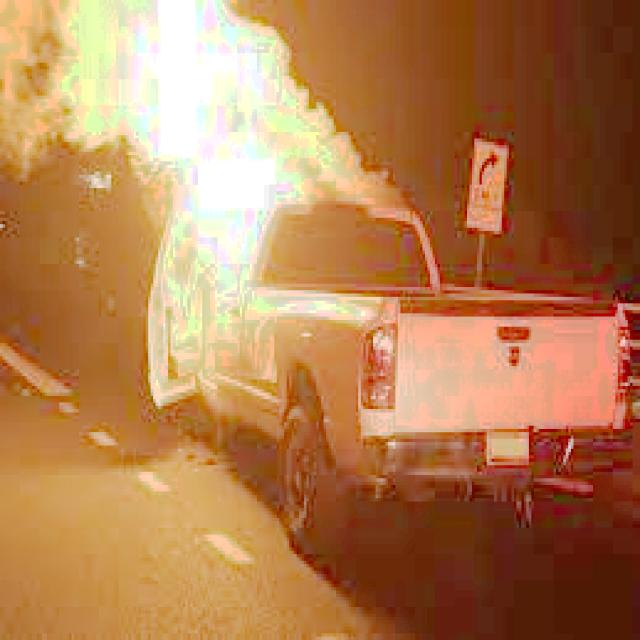api: (82, 1, 389, 288)
